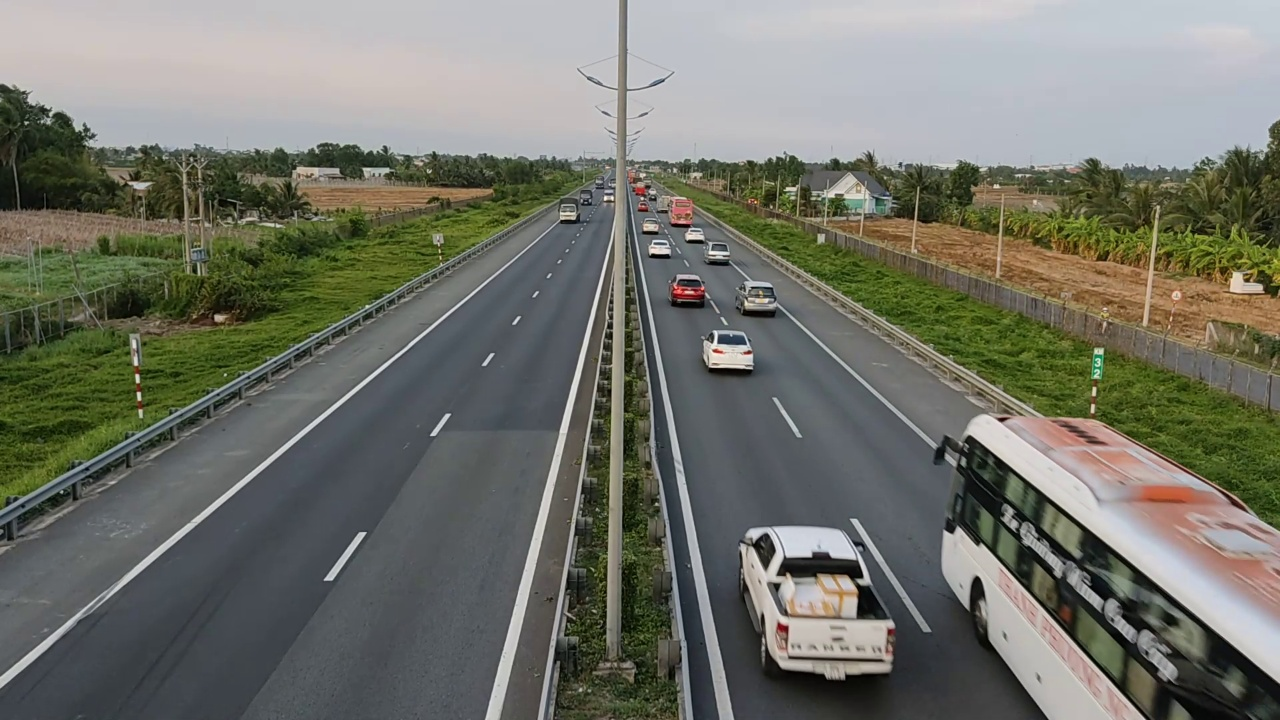bus: (939, 409, 1272, 711)
car: (736, 523, 896, 681), (700, 328, 755, 372), (735, 281, 778, 316), (668, 273, 706, 307), (703, 241, 730, 265), (648, 237, 671, 257)
